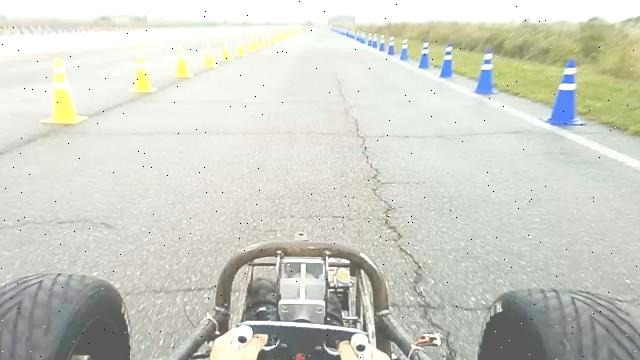blue cone: (544, 58, 586, 126), (474, 48, 500, 94), (438, 43, 454, 78), (418, 40, 430, 68), (400, 38, 410, 60), (387, 36, 396, 55), (379, 34, 386, 52), (372, 34, 379, 48)
yellow cone: (40, 57, 89, 124), (130, 46, 158, 93), (173, 43, 193, 78), (202, 39, 216, 68), (221, 37, 232, 61), (237, 34, 246, 56), (247, 34, 256, 52), (260, 31, 267, 48)
